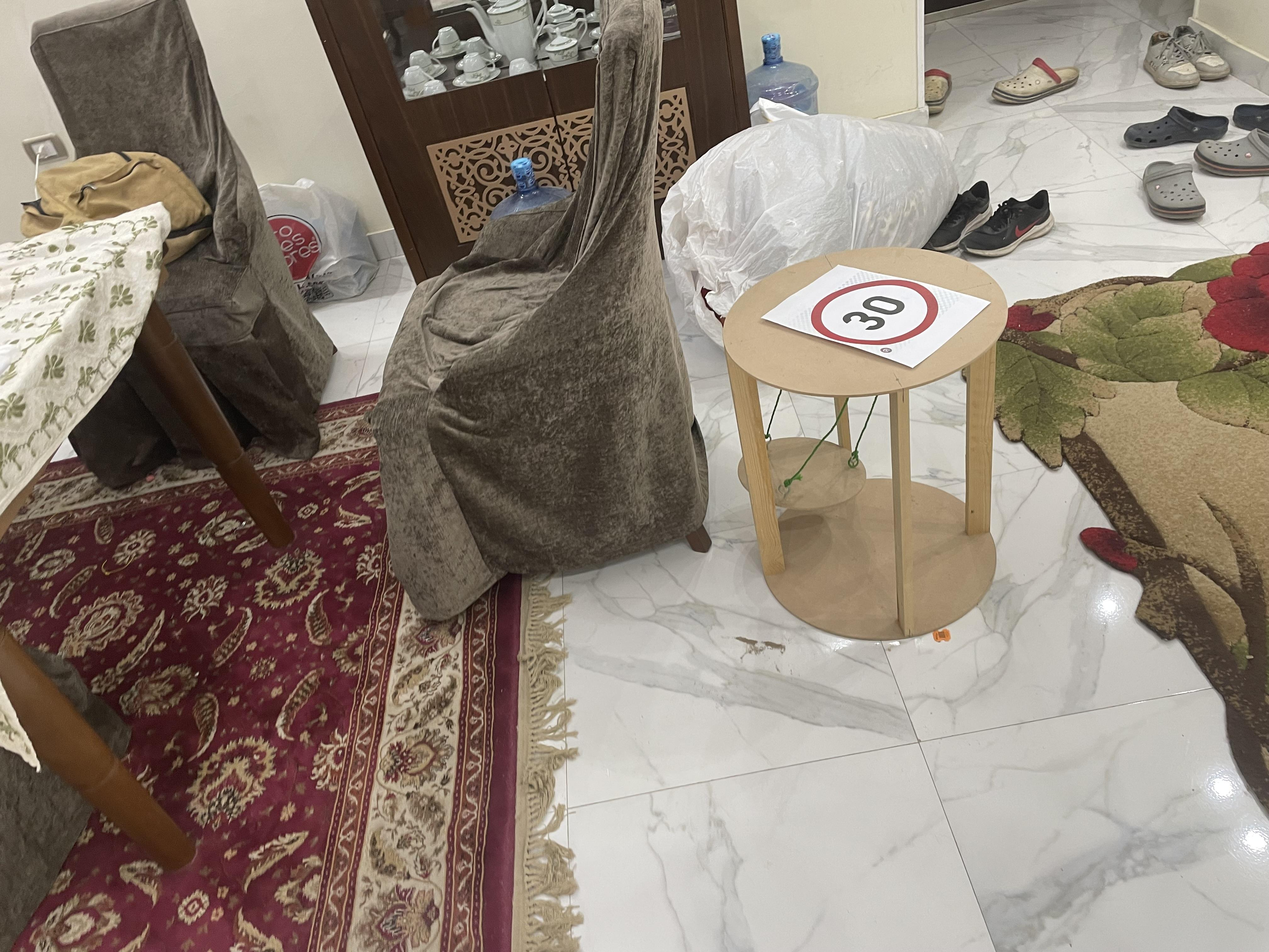30-speed: (812, 273, 946, 352)
